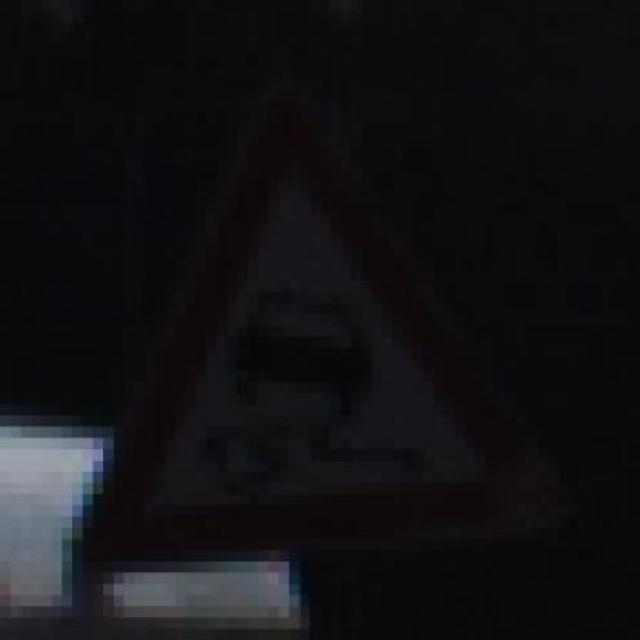Slippery Road Ahead: (51, 79, 558, 596)
